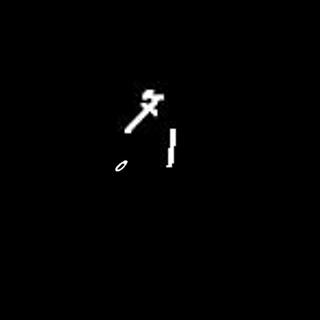one: (165, 127, 177, 172)
seven: (120, 85, 163, 137)
zero: (115, 158, 130, 173)
